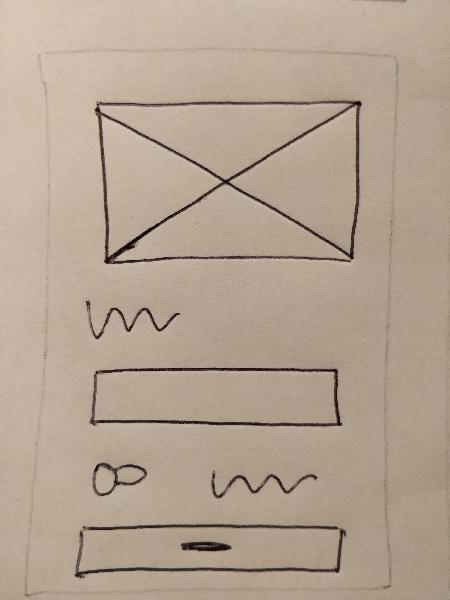button: (68, 517, 350, 584)
image: (86, 92, 369, 280)
switch: (85, 457, 153, 503)
text: (196, 459, 319, 510), (79, 296, 187, 353)
text_input: (81, 361, 348, 439)
